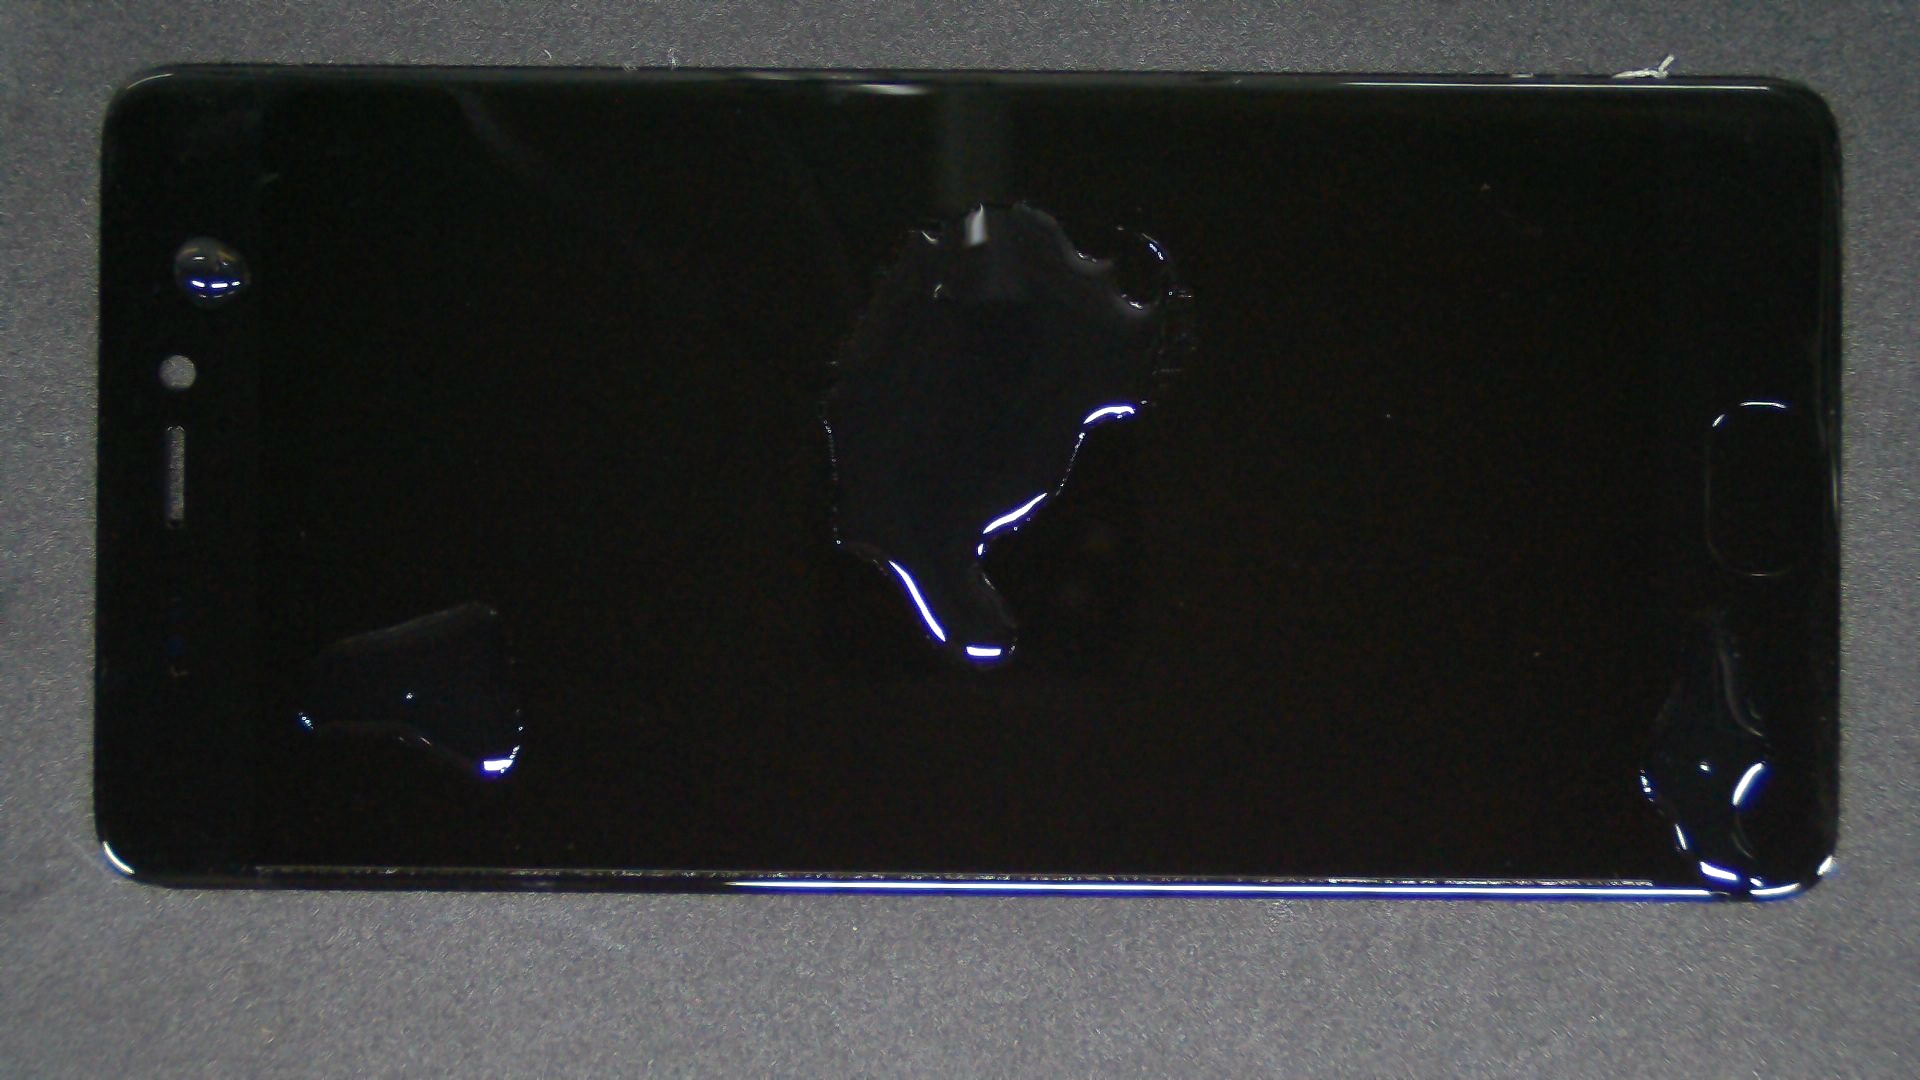oil: (856, 303, 1920, 911), (239, 301, 713, 903), (497, 99, 1489, 299), (102, 117, 301, 355)
